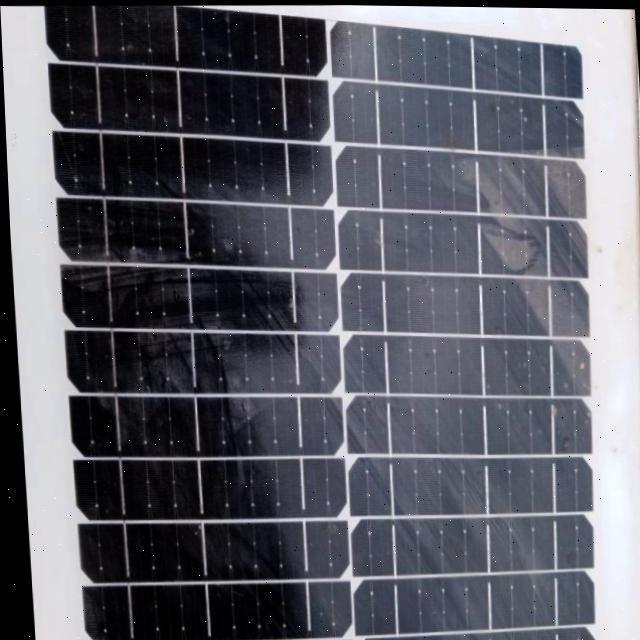Surface Contaminant: (34, 4, 602, 381)
